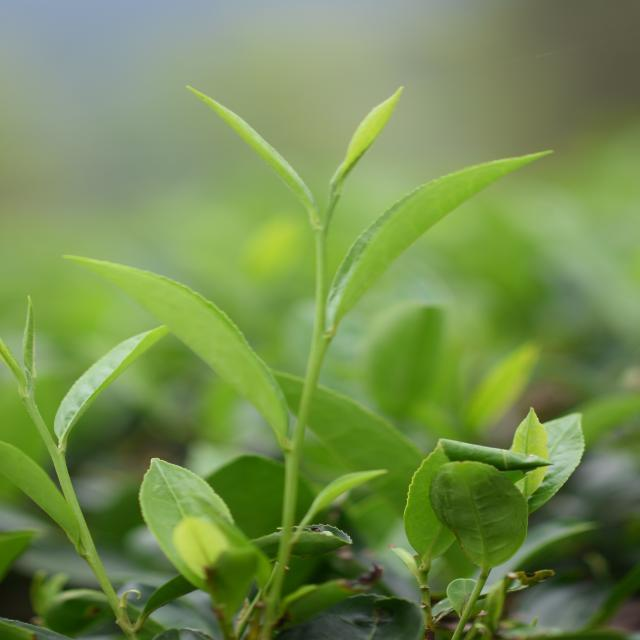Stem: (22, 394, 40, 416), (315, 229, 327, 250)
